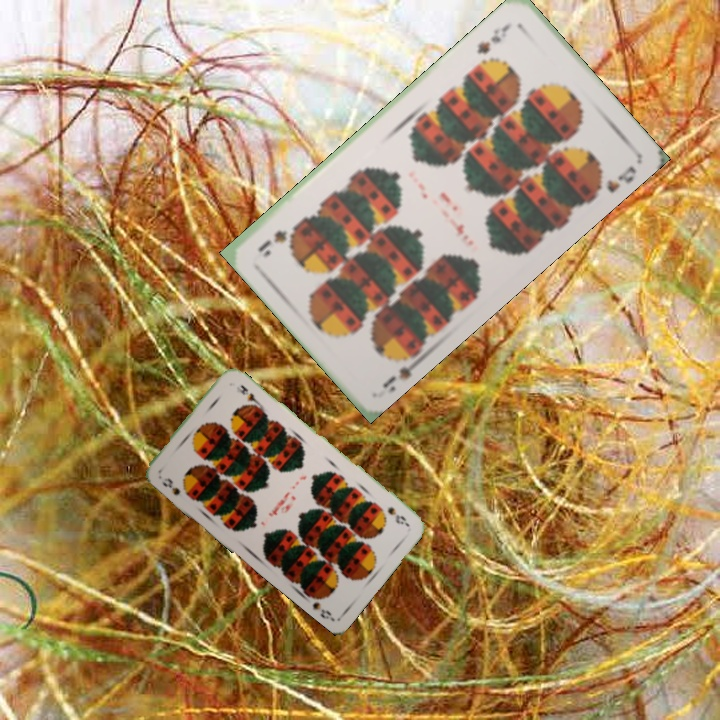S9: (378, 346, 426, 391), (473, 18, 515, 57), (158, 473, 191, 499), (383, 503, 411, 528)
